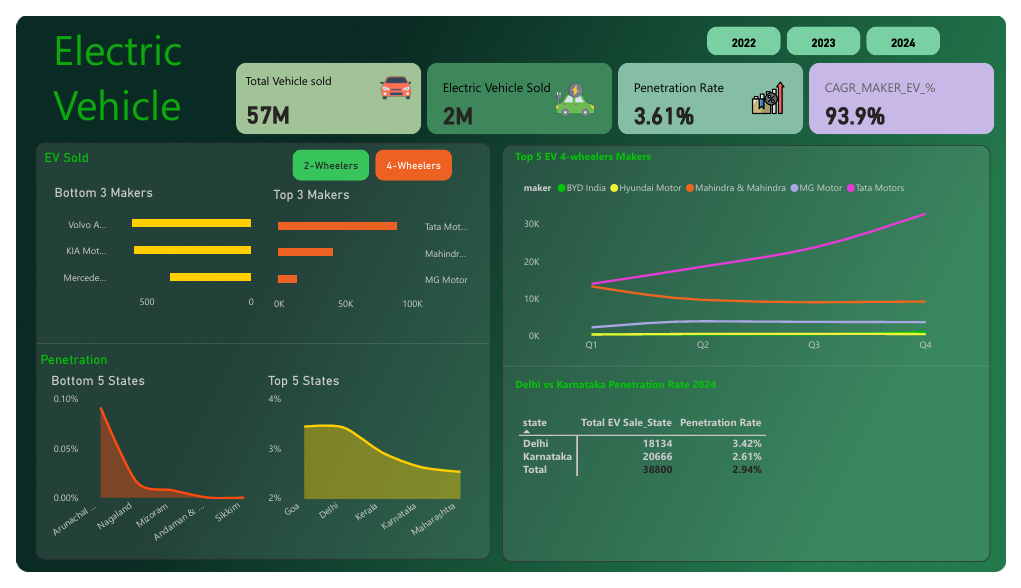

This screenshot's page, from the dashboard's own definition file:
{"tool":"powerbi","page":{"name":"Page 2","canvas":[1280,720],"ordinal":1},"visuals":[{"type":"shape","title":"EV Sold","box":[25,162.5,588.4,539.3],"z":0,"group":"g2"},{"type":"group","id":"g1","title":"Group-2","box":[628.2,166.4,630.7,538.9],"z":0},{"type":"shape","title":"Black Squre","box":[628.2,166.4,630.7,538.9],"z":0,"group":"g1"},{"type":"shape","box":[26,413,586.5,19.6],"z":1000,"group":"g2"},{"type":"shape","box":[628.2,443.6,630.9,16.4],"z":1000},{"type":"textbox","box":[26,427.7,105.1,32.4],"z":2000,"group":"g2"},{"type":"textbox","box":[640,460.9,290.9,31.8],"z":2000},{"type":"group","id":"g2","title":"Group-1","box":[25,162.5,587.5,538.5],"z":3000},{"type":"textbox","box":[30.9,166.4,112,30.5],"z":3000,"group":"g2"},{"type":"cardVisual","fields":{"Data":["Sum(electric_vehicle_sales_by_state.total_vehicles_sold)","Sum(electric_vehicle_sales_by_state.electric_vehicles_sold)","Keymatrix.Penetration Rate","Keymatrix.CAGR_MAKER_EV_%"]},"box":[279.2,55.3,992.2,101.9],"z":4000},{"type":"areaChart","title":"Bottom 5 States","fields":{"Category":["electric_vehicle_sales_by_state.state"],"Y":["Keymatrix.Penetration Rate"]},"box":[39.7,460.2,278,231.8],"z":4000,"group":"g2"},{"type":"textbox","box":[41.8,0,199.4,156.6],"z":5000},{"type":"areaChart","title":"Top 5 States","fields":{"Category":["electric_vehicle_sales_by_state.state"],"Y":["Keymatrix.Penetration Rate"]},"box":[319.7,460.2,279,231.8],"z":5000,"group":"g2"},{"type":"advancedSlicerVisual","fields":{"Values":["dim_date.fiscal_year.Variation.Date Hierarchy.Year"]},"box":[745.7,8.6,311.4,47.1],"z":6000},{"type":"barChart","title":"Bottom 3 Makers","fields":{"Category":["electric_vehicle_sales_by_makers.maker"],"Y":["Keymatrix.Total_EV_Sales_Maker"]},"box":[44.1,216.4,274.1,169.9],"z":6000,"group":"g2"},{"type":"textbox","box":[640,166.4,290.9,31.8],"z":7000},{"type":"barChart","title":"Top 3 Makers","fields":{"Category":["electric_vehicle_sales_by_makers.maker"],"Y":["Keymatrix.Total_EV_Sales_Maker"]},"box":[327,219.4,273.1,169.9],"z":7000,"group":"g2"},{"type":"actionButton","box":[1221.2,1.2,50,43.8],"z":8000},{"type":"advancedSlicerVisual","fields":{"Values":["Vehicle_Category_Table.Vehicle Category"]},"box":[352.1,166.4,216.1,50.1],"z":8500,"group":"g2"},{"type":"pivotTable","fields":{"Rows":["electric_vehicle_sales_by_state.state"],"Values":["Keymatrix.Total EV Sale_State","Keymatrix.Penetration Rate"]},"box":[645.3,511.2,340.9,130.9],"z":8501,"group":"g1"},{"type":"actionButton","box":[1171.2,1.2,50,43.8],"z":9000},{"type":"lineChart","fields":{"Series":["electric_vehicle_sales_by_makers.maker"],"Category":["dim_date.quarter"],"Y":["Keymatrix.Total_EV_Sales_Maker"]},"box":[650.8,202.4,587.3,240.9],"z":9001,"group":"g1"}]}

Visuals, with their boxes in screenshot pixels (x1, y1, x2, y2), scaled from the page's 1280x720 canvas onto the 1021x588 screenshot:
"EV Sold" shape: BBox(20, 133, 489, 573)
"Group-2" group: BBox(501, 136, 1004, 576)
"Black Squre" shape: BBox(501, 136, 1004, 576)
shape: BBox(21, 337, 489, 353)
shape: BBox(501, 362, 1004, 376)
textbox: BBox(21, 349, 105, 376)
textbox: BBox(510, 376, 743, 402)
"Group-1" group: BBox(20, 133, 489, 572)
textbox: BBox(25, 136, 114, 161)
cardVisual - Sum(electric_vehicle_sales_by_state.total_vehicles_sold) x Sum(electric_vehicle_sales_by_state.electric_vehicles_sold): BBox(223, 45, 1014, 128)
"Bottom 5 States" areaChart: BBox(32, 376, 253, 565)
textbox: BBox(33, 0, 192, 128)
"Top 5 States" areaChart: BBox(255, 376, 478, 565)
advancedSlicerVisual - dim_date.fiscal_year.Variation.Date Hierarchy.Year: BBox(595, 7, 843, 45)
"Bottom 3 Makers" barChart: BBox(35, 177, 254, 315)
textbox: BBox(510, 136, 743, 162)
"Top 3 Makers" barChart: BBox(261, 179, 479, 318)
actionButton: BBox(974, 1, 1014, 37)
advancedSlicerVisual - Vehicle_Category_Table.Vehicle Category: BBox(281, 136, 453, 177)
pivotTable - electric_vehicle_sales_by_state.state x Keymatrix.Total EV Sale_State: BBox(515, 417, 787, 524)
actionButton: BBox(934, 1, 974, 37)
lineChart - electric_vehicle_sales_by_makers.maker x dim_date.quarter: BBox(519, 165, 988, 362)
